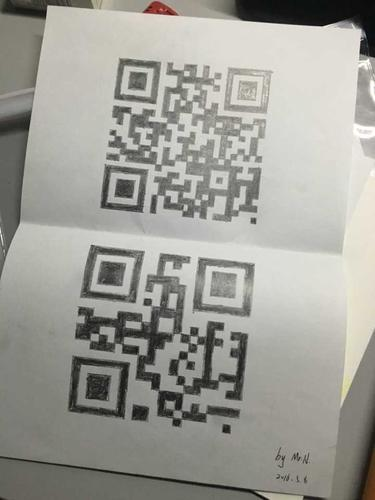QRCode: (65, 238, 258, 441), (98, 50, 268, 227)
